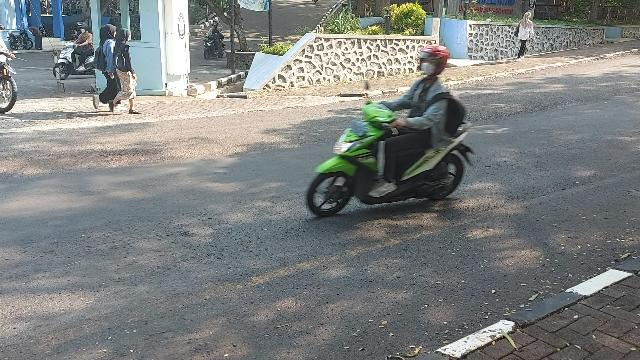helm: (419, 46, 450, 77)
motor: (308, 83, 476, 220)
